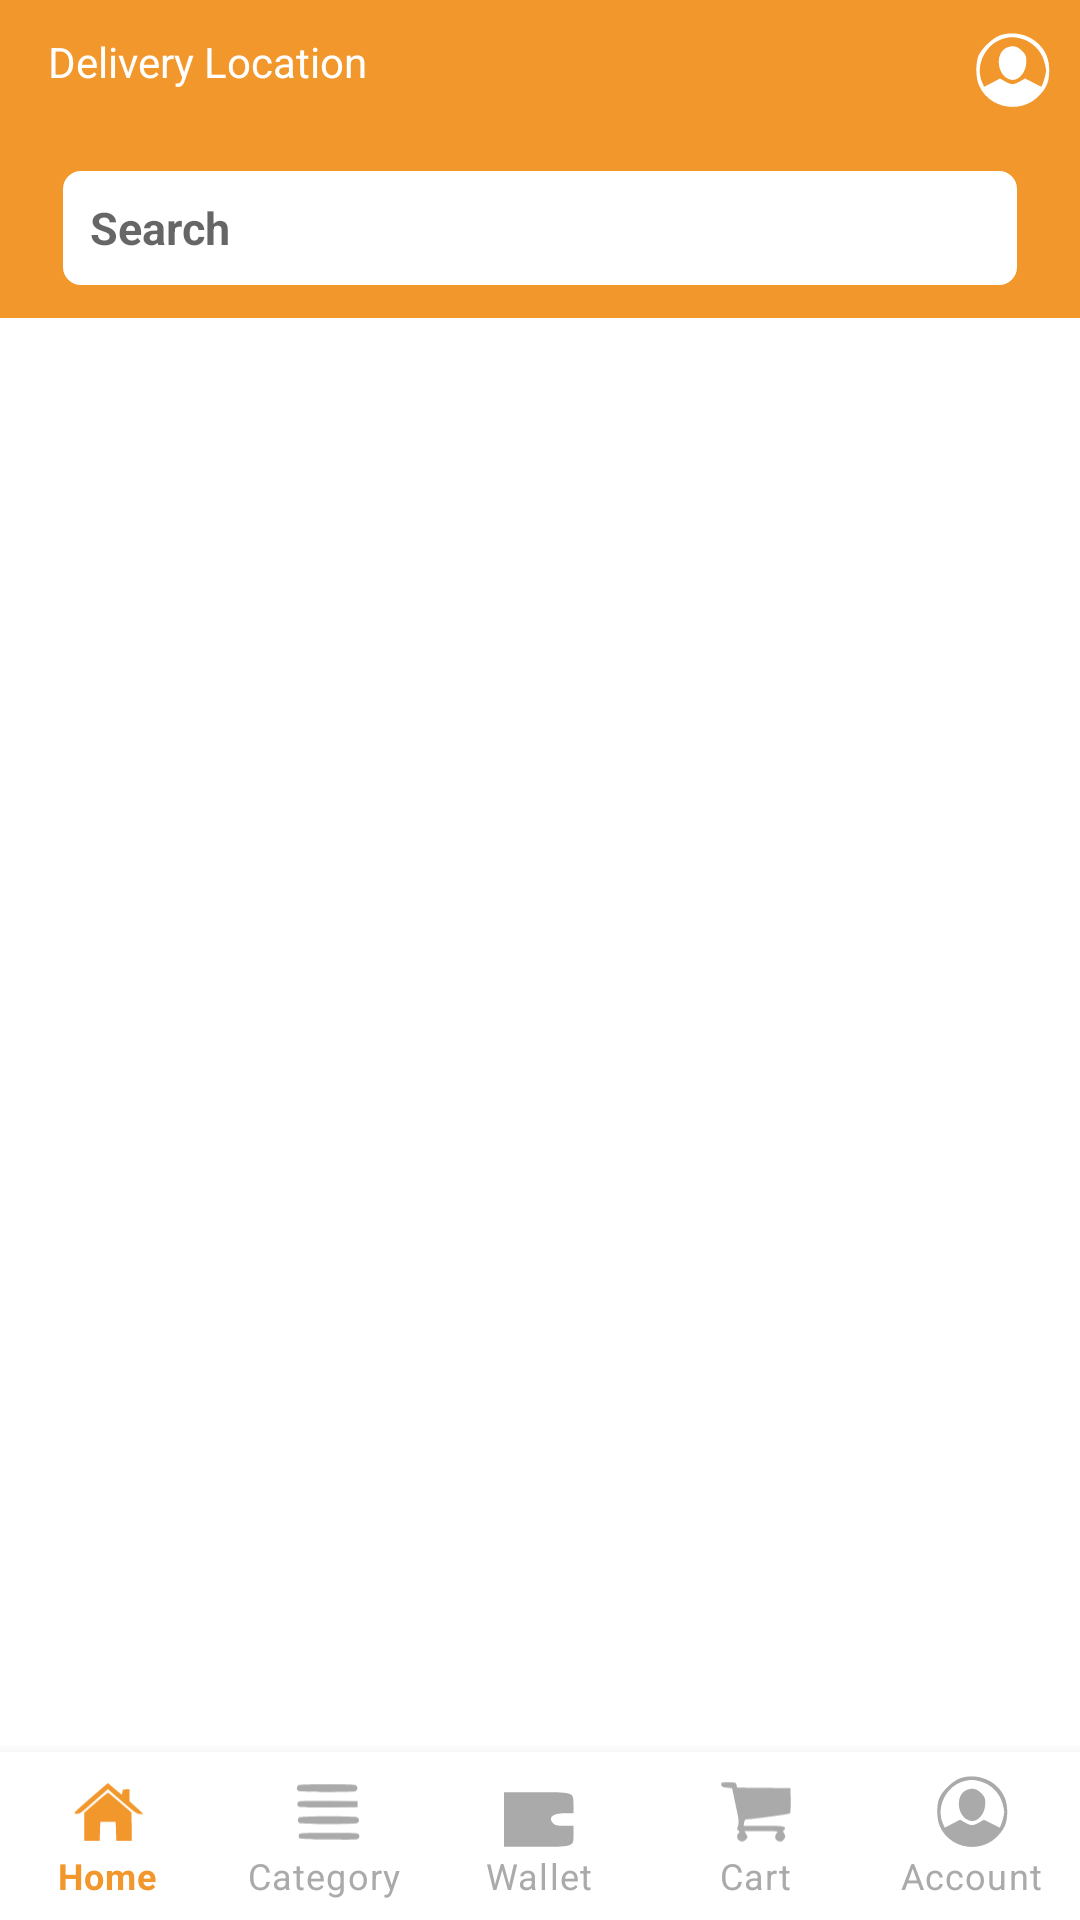

Where icons sit on this 1080 x 1920 app screen, as region(x1, y1, x2, y2):
profile: region(976, 33, 1050, 107)
